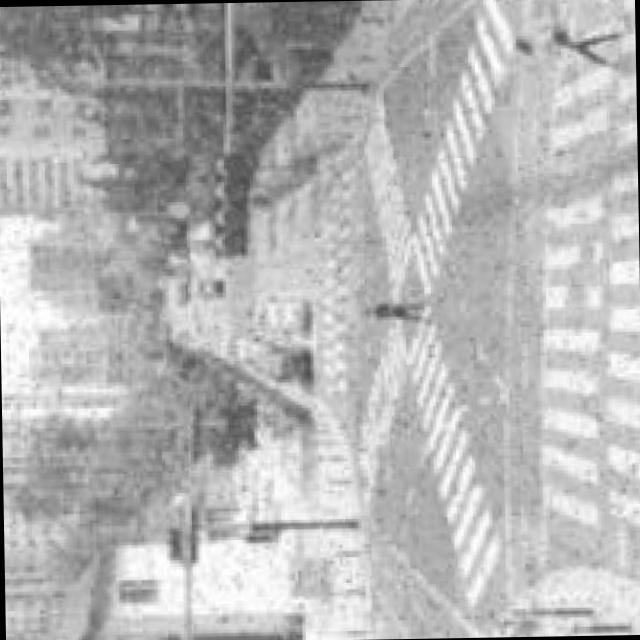zebra: (529, 0, 640, 556), (312, 148, 373, 406)
